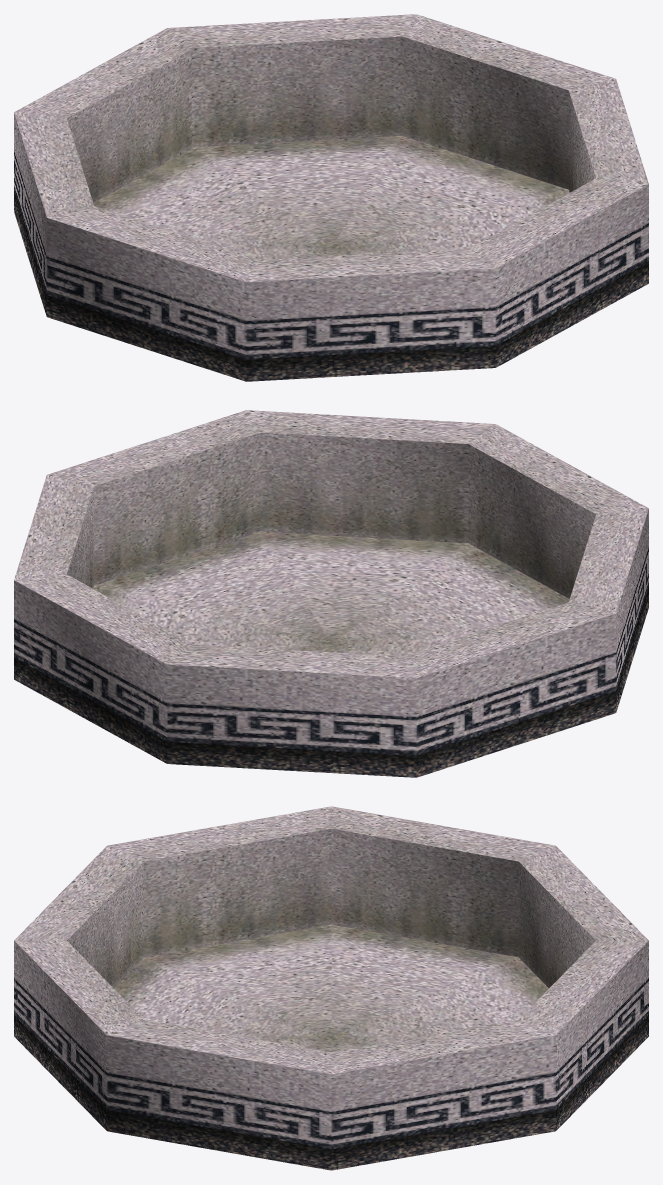
The model's file is M7_Zone4_PooL.glb.
The picture shows the model from 3 angles, top to bottom: view 1: azimuth 30°, elevation 25°; view 2: azimuth 150°, elevation 25°; view 3: azimuth 270°, elevation 25°; orthographic projection. The views are drawn at different scales.
Visible parts, largest first — view 1: M7_ZONE4_POOL; view 2: M7_ZONE4_POOL; view 3: M7_ZONE4_POOL.
Boxes of the visible parts, <box> form: M7_ZONE4_POOL: <box>14,14,648,381</box>; M7_ZONE4_POOL: <box>14,410,648,777</box>; M7_ZONE4_POOL: <box>14,806,648,1170</box>.
Bounding box in the file's own units: 6 × 1 × 6.
Materials: 2 (2 with a texture image).
